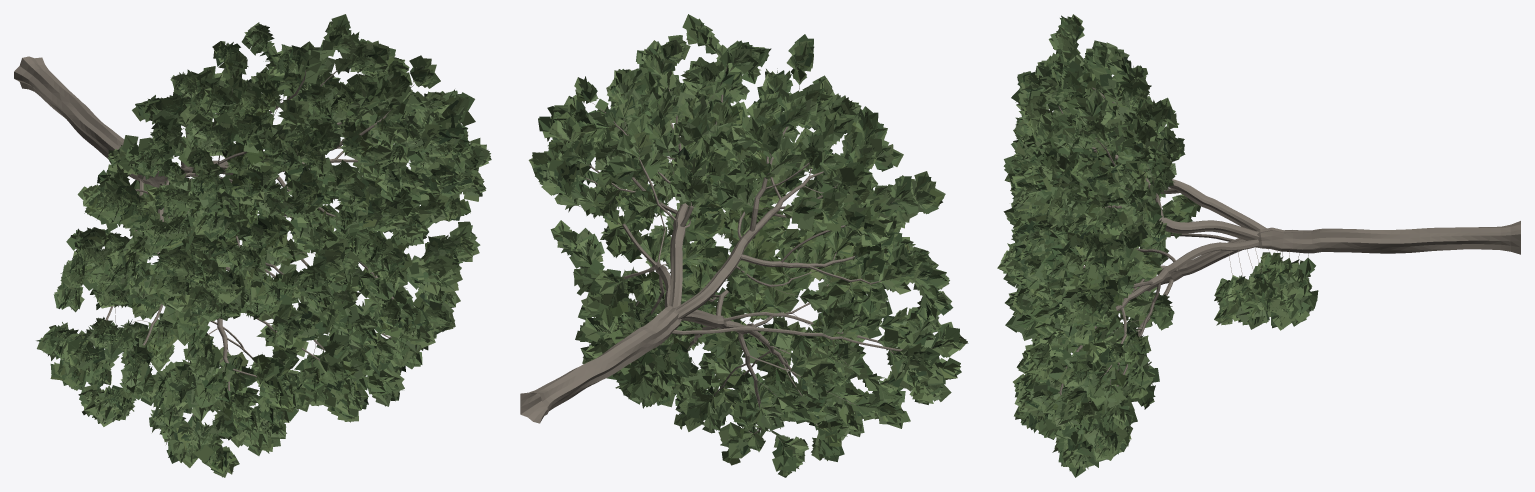
File: tree_near_12.obj
3 renders of one model, left to right at view 1: azimuth 30°, elevation 25°; view 2: azimuth 150°, elevation 25°; view 3: azimuth 270°, elevation 25°, orthographic. The views are drawn at different scales.
Parts seen in each view (by area): view 1: tree_near_12; view 2: tree_near_12; view 3: tree_near_12.
Part boxes in pixels (x1,y1,x2,y2): tree_near_12: (14, 14, 491, 477); tree_near_12: (520, 14, 968, 477); tree_near_12: (997, 14, 1520, 477).
Bounding box in the file's own units: 0.9169 × 0.8876 × 0.9985.
Materials: 1 (1 with a texture image).
